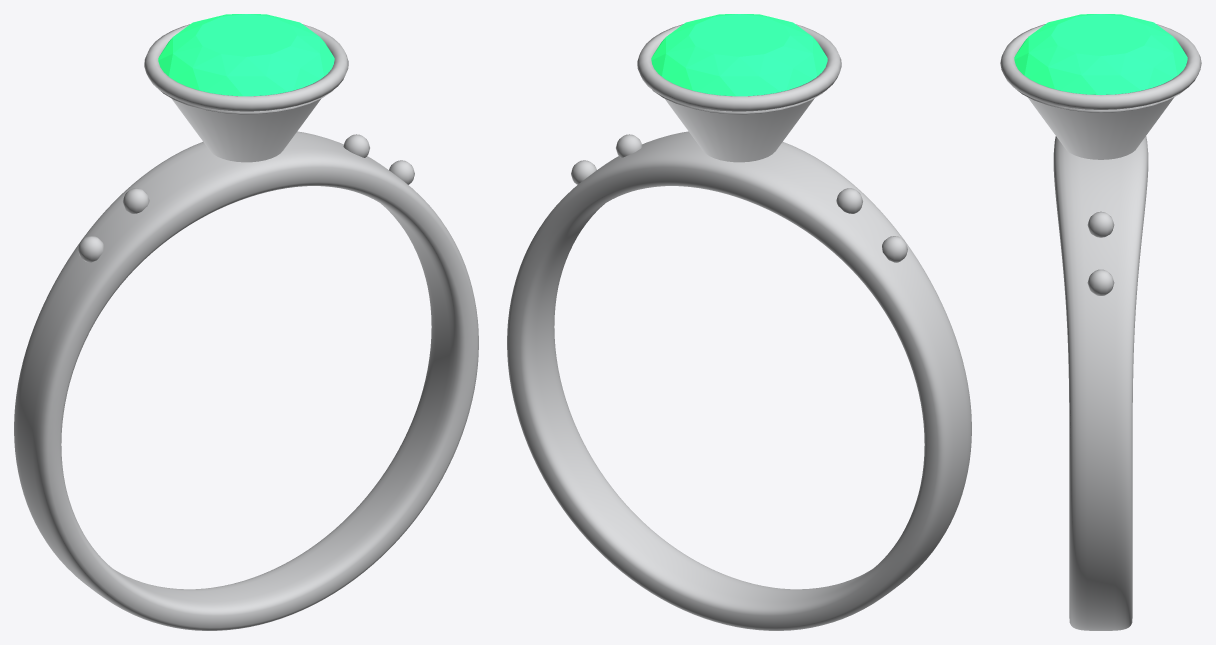
The model's file is jewel_ring_uncommon.glb.
3 views of the same model, side by side, from view 1: azimuth 30°, elevation 25°; view 2: azimuth 150°, elevation 25°; view 3: azimuth 270°, elevation 25° (orthographic).
Parts seen in each view (by area): view 1: jewel_ring_uncommon; view 2: jewel_ring_uncommon; view 3: jewel_ring_uncommon.
Part boxes in pixels (<box>): jewel_ring_uncommon: <box>14,14,478,630</box>; jewel_ring_uncommon: <box>507,14,971,630</box>; jewel_ring_uncommon: <box>1000,14,1201,630</box>.
Bounding box in the file's own units: 2.26 × 2.83 × 0.904.
